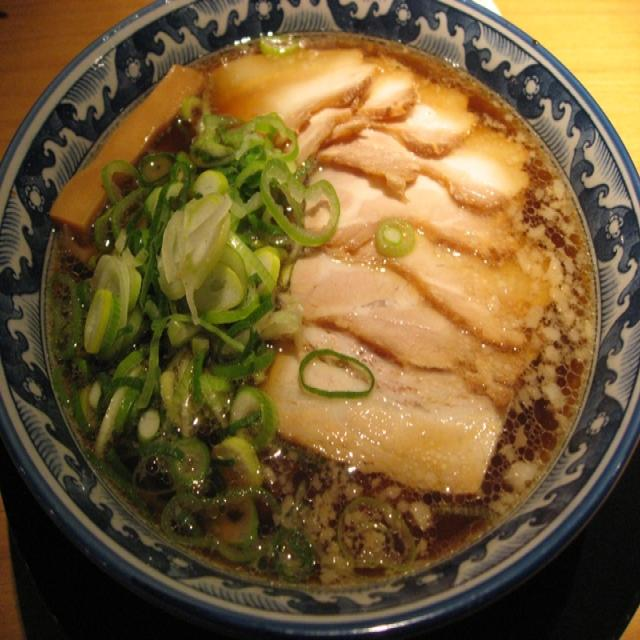面条主食: (37, 48, 593, 587)
